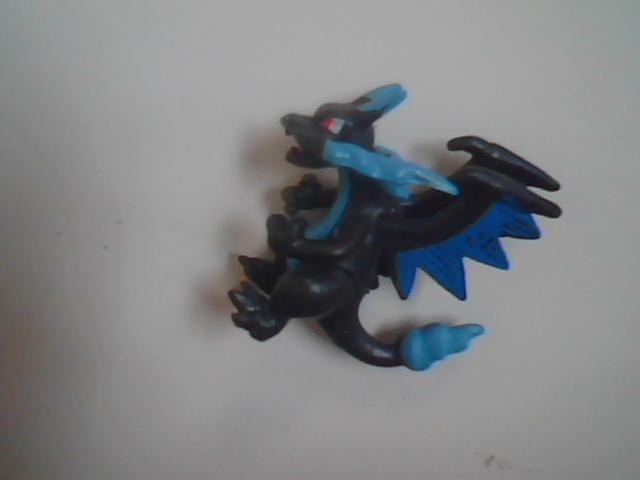charizard: (195, 67, 568, 435)
